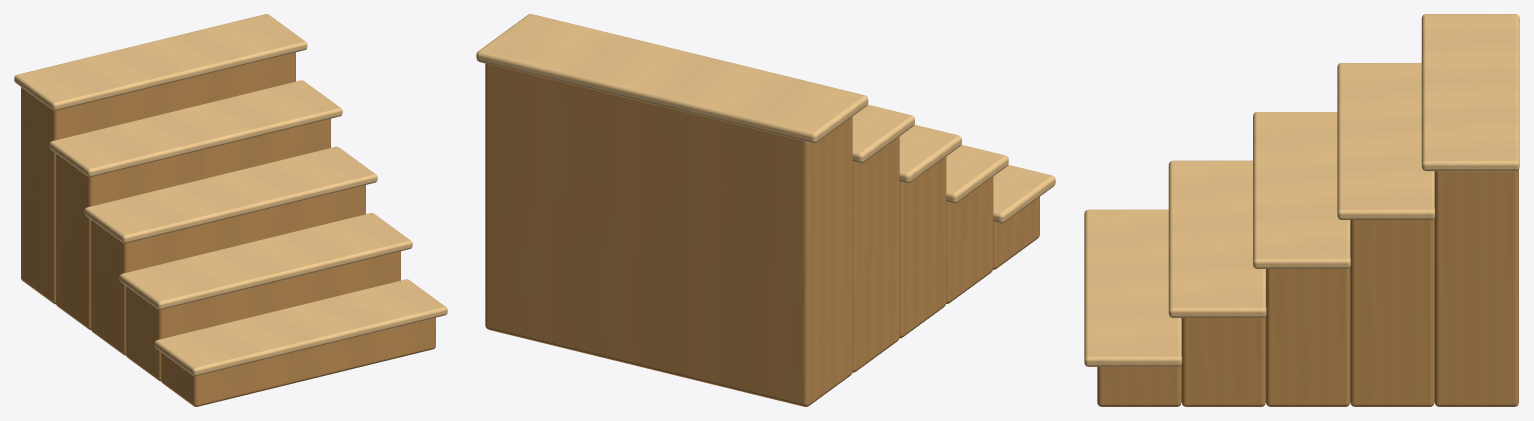
File: Stairs_1m.glb
3 renders of one model, left to right at view 1: azimuth 30°, elevation 25°; view 2: azimuth 150°, elevation 25°; view 3: azimuth 270°, elevation 25°, orthographic. The views are drawn at different scales.
Parts seen in each view (by area): view 1: Stairs_1m; view 2: Stairs_1m; view 3: Stairs_1m.
Part boxes in pixels (x1,y1,x2,y2): Stairs_1m: [14, 14, 447, 406]; Stairs_1m: [476, 14, 1055, 406]; Stairs_1m: [1084, 14, 1519, 406].
Bounding box in the file's own units: 1.05 × 0.8165 × 1.29.
2 materials, 2 textured.
